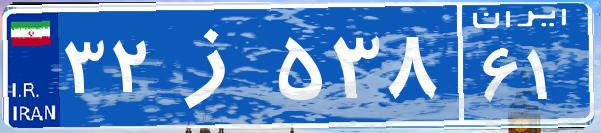1: (525, 38, 570, 115)
2: (110, 28, 158, 105)
3: (330, 28, 385, 110), (57, 26, 110, 107)
5: (273, 28, 330, 110)
6: (475, 38, 525, 113)
8: (385, 28, 445, 110)
ز: (158, 15, 273, 115)
